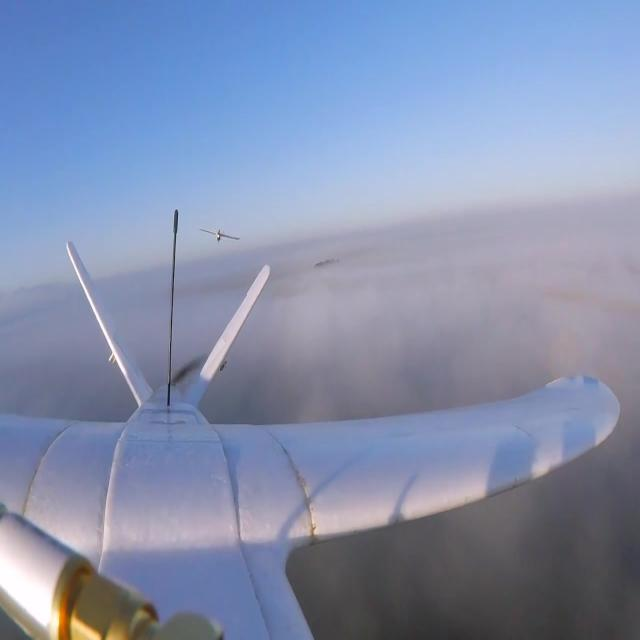iha: (198, 225, 241, 247)
